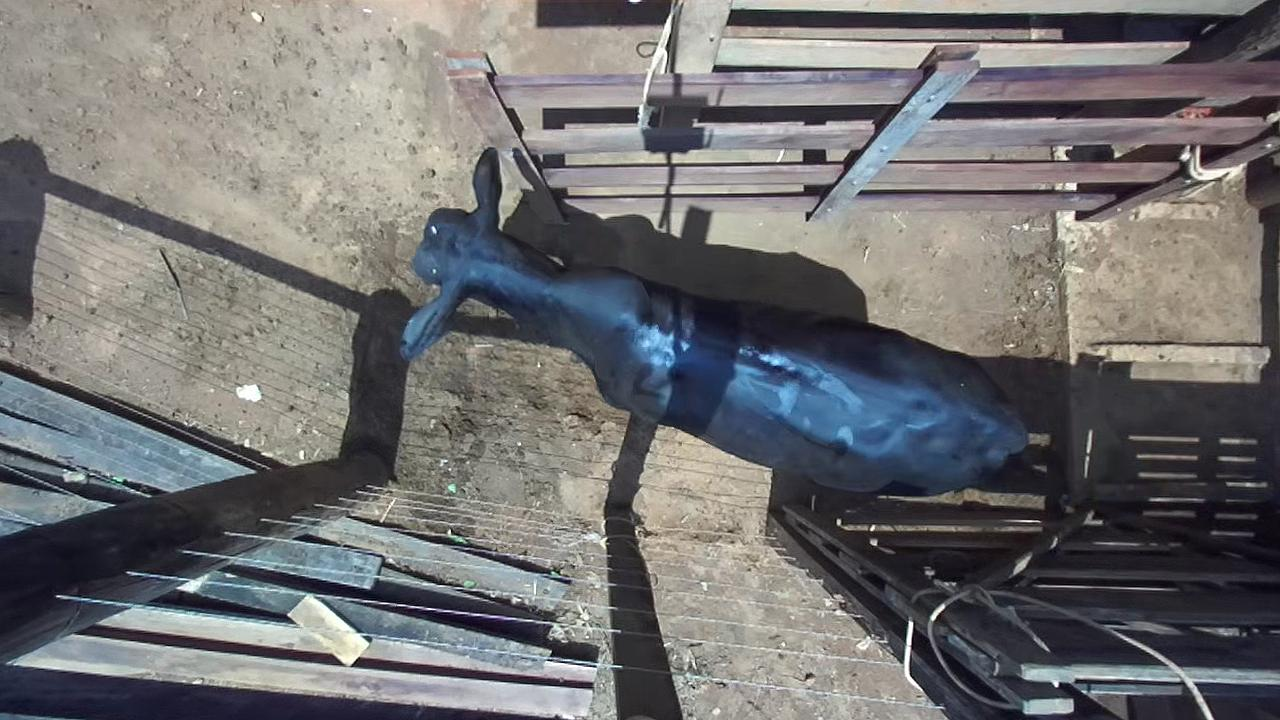cattle: (397, 145, 1051, 500)
